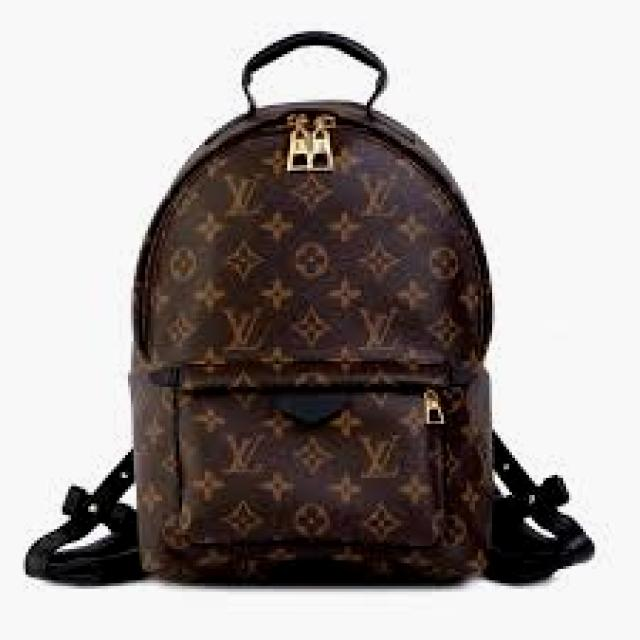backpack: (24, 29, 596, 587)
